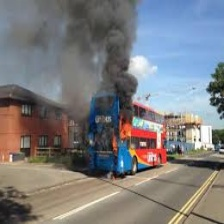smoke: (64, 1, 142, 113)
